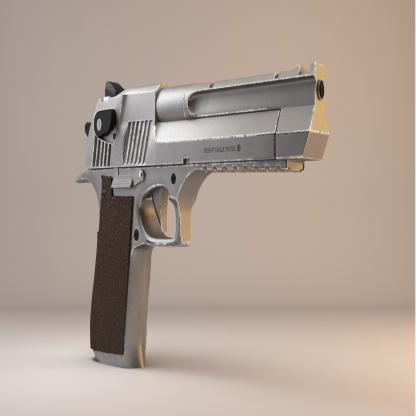Pistol: (69, 43, 341, 380)
